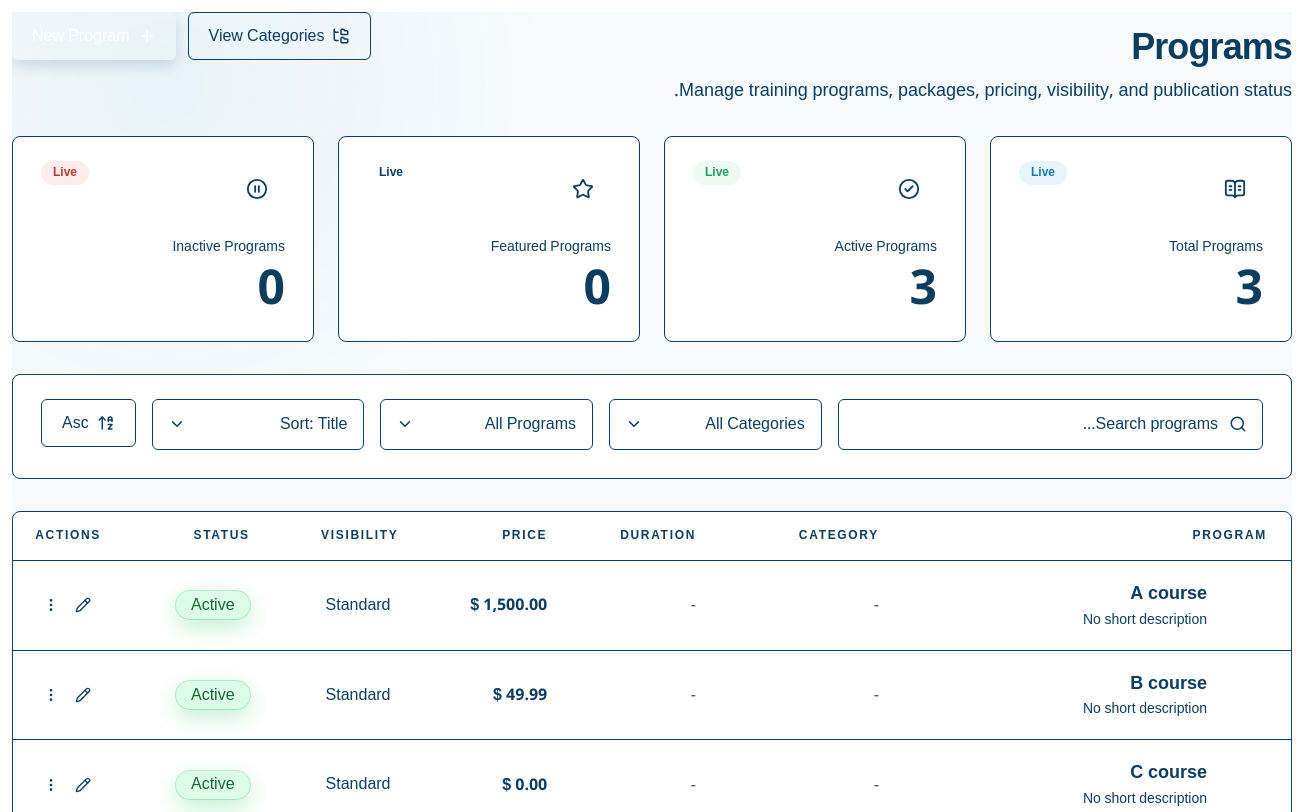
Test: the programmes list › shows each price in US dollars and sorts on the integer of cents
Expected: the text "$ 49.99" is shown, [493,678,547,712]
Expected: the text "$ 1,500.00" is shown, [470,588,547,622]
Select "Sort: Price" in the 1st dropdown showing "Sort: Title" at (258, 424), box [152,399,364,450]
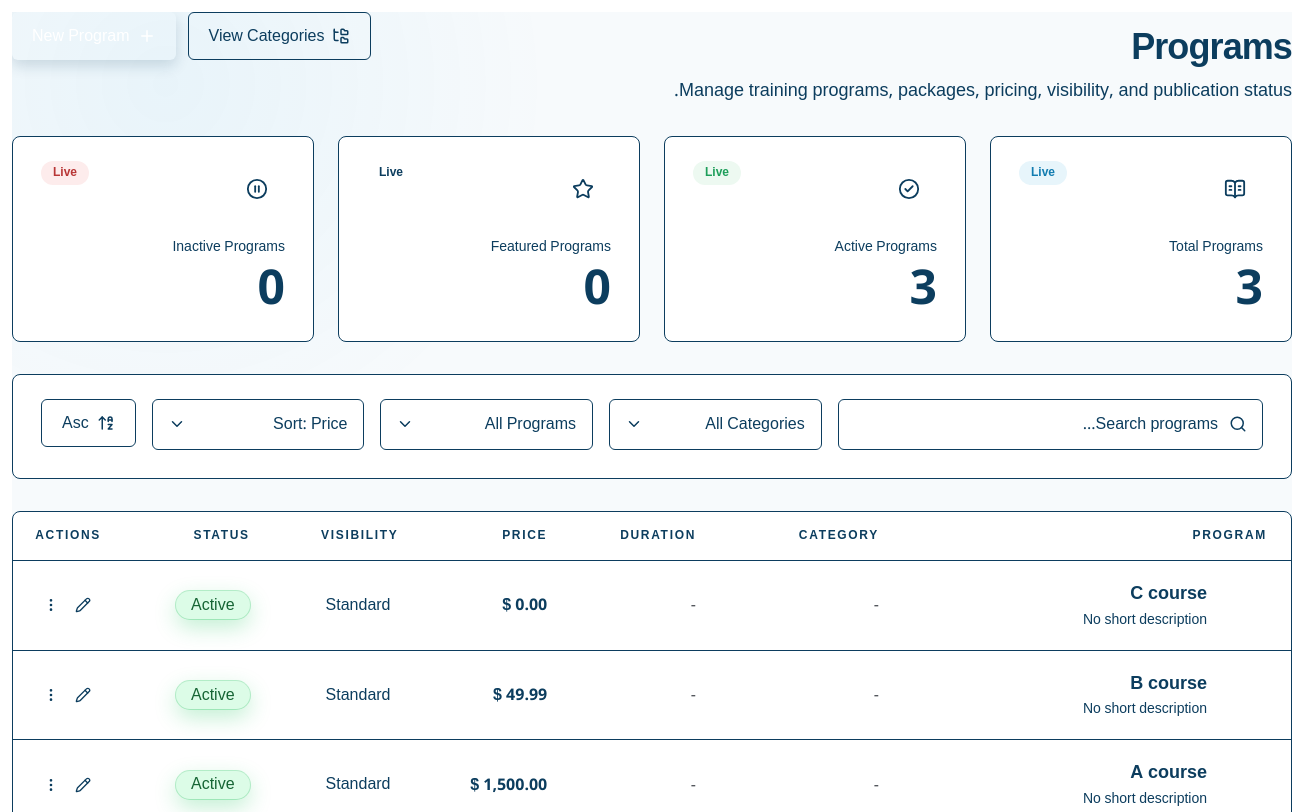
Expected: the headings read "C course", "B course", "A course", in this order, [1130,574,1207,612]; [1130,664,1207,702]; [1130,753,1207,791]
